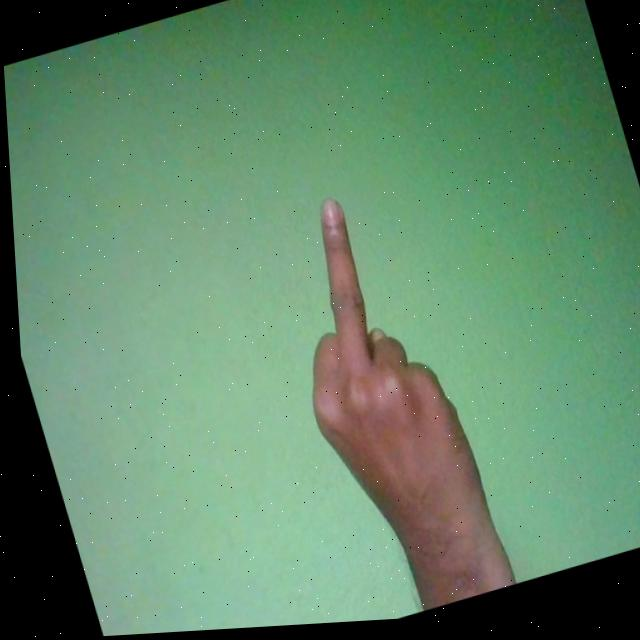Middle Finger: (249, 179, 500, 609)
